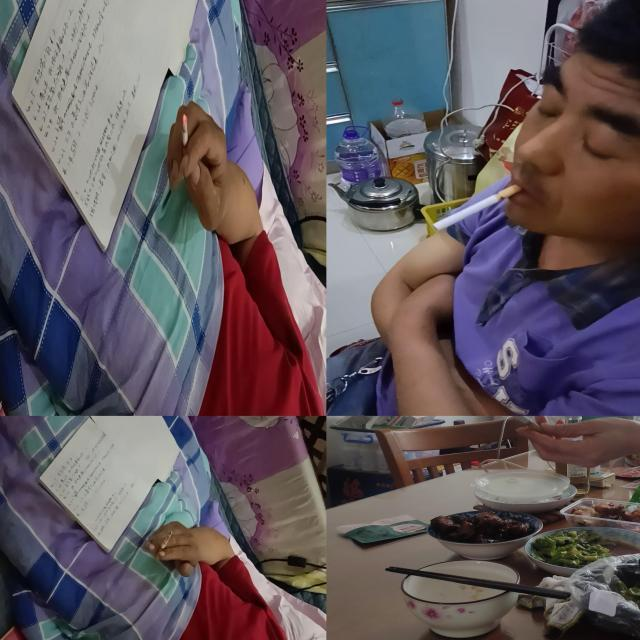cigarette: (433, 184, 523, 230), (485, 416, 548, 436), (155, 530, 172, 560), (182, 113, 189, 168)
